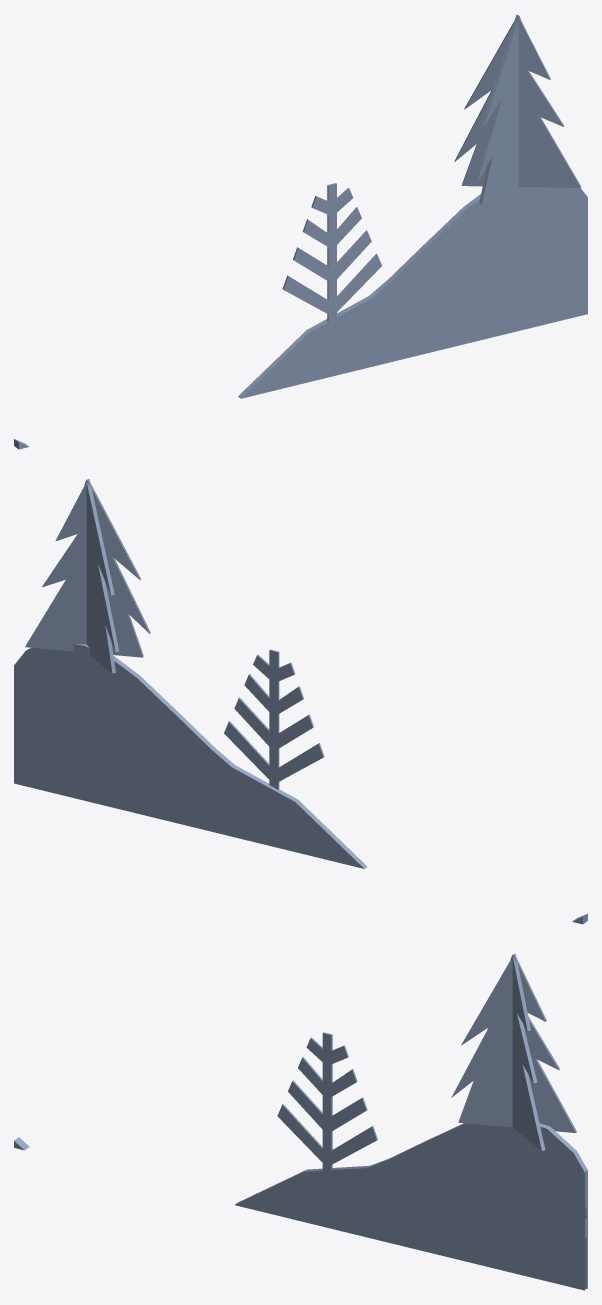
Rendered from frame_0232.glb.
3 views of the same model, one above another, from view 1: azimuth 30°, elevation 25°; view 2: azimuth 150°, elevation 25°; view 3: azimuth 330°, elevation 25° (orthographic).
Visible parts, largest first — view 1: export_trees_001.002; view 2: export_trees_001.002; view 3: export_trees_001.002.
Boxes of the visible parts, x1,y1,x2,y2 form: export_trees_001.002: [14, 14, 587, 449]; export_trees_001.002: [14, 479, 587, 924]; export_trees_001.002: [14, 953, 587, 1290].
Bounding box in the file's own units: 0.4327 × 0.2304 × 0.0469.
